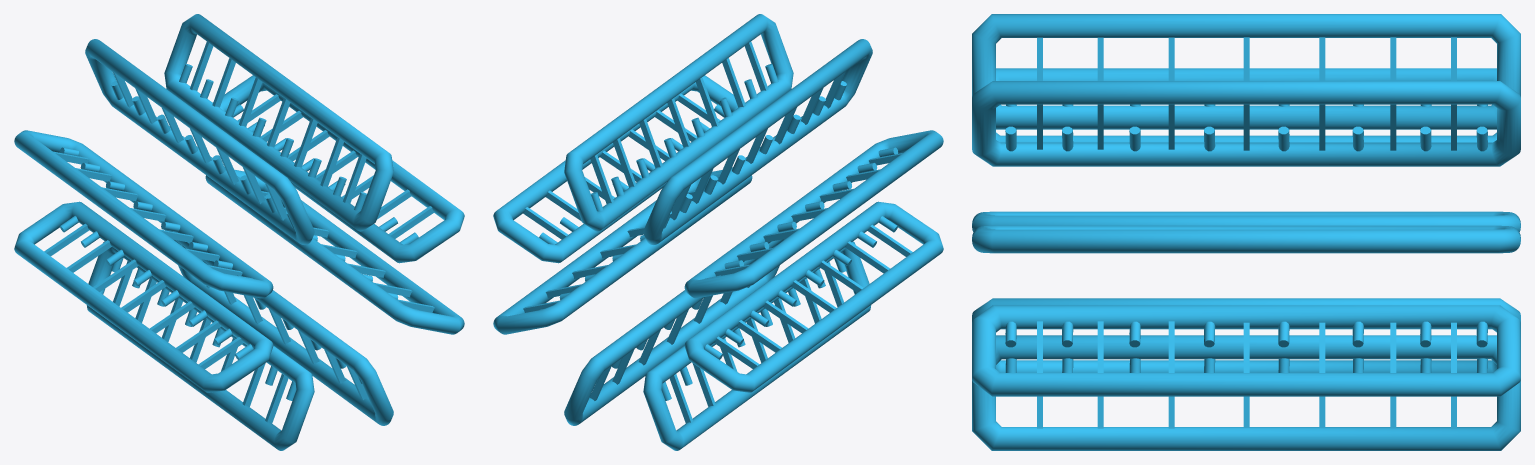
Rendered from magnet-toroid-barrel.glb.
3 views of the same model, side by side, from view 1: azimuth 30°, elevation 25°; view 2: azimuth 150°, elevation 25°; view 3: azimuth 270°, elevation 25° (orthographic). The views are drawn at different scales.
Parts seen in each view (by area): view 1: barrel toroid; view 2: barrel toroid; view 3: barrel toroid.
Part boxes in pixels (x1,y1,x2,y2): barrel toroid: [14, 14, 464, 450]; barrel toroid: [493, 14, 943, 450]; barrel toroid: [972, 14, 1520, 450].
Bounding box in the file's own units: 18.69 × 18.69 × 25.27.
